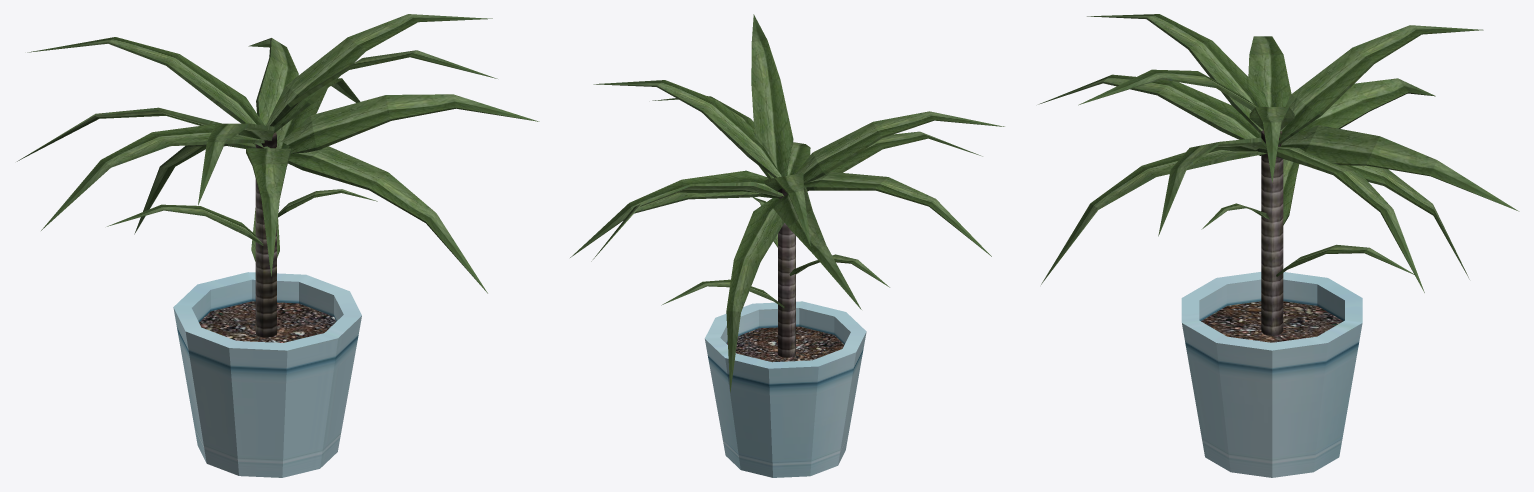
The model's file is Plant3.obj.
The picture shows the model from 3 angles, left to right: view 1: azimuth 30°, elevation 25°; view 2: azimuth 150°, elevation 25°; view 3: azimuth 270°, elevation 25°; orthographic projection. The views are drawn at different scales.
Visible parts, largest first — view 1: plant_plant.007; view 2: plant_plant.007; view 3: plant_plant.007.
Part boxes in pixels (x1=…): plant_plant.007: x1=17, y1=14, x2=539, y2=477; plant_plant.007: x1=570, y1=14, x2=1004, y2=477; plant_plant.007: x1=1038, y1=14, x2=1519, y2=477.
Bounding box in the file's own units: 8.38 × 7.24 × 7.61.
Materials: 1 (1 with a texture image).
